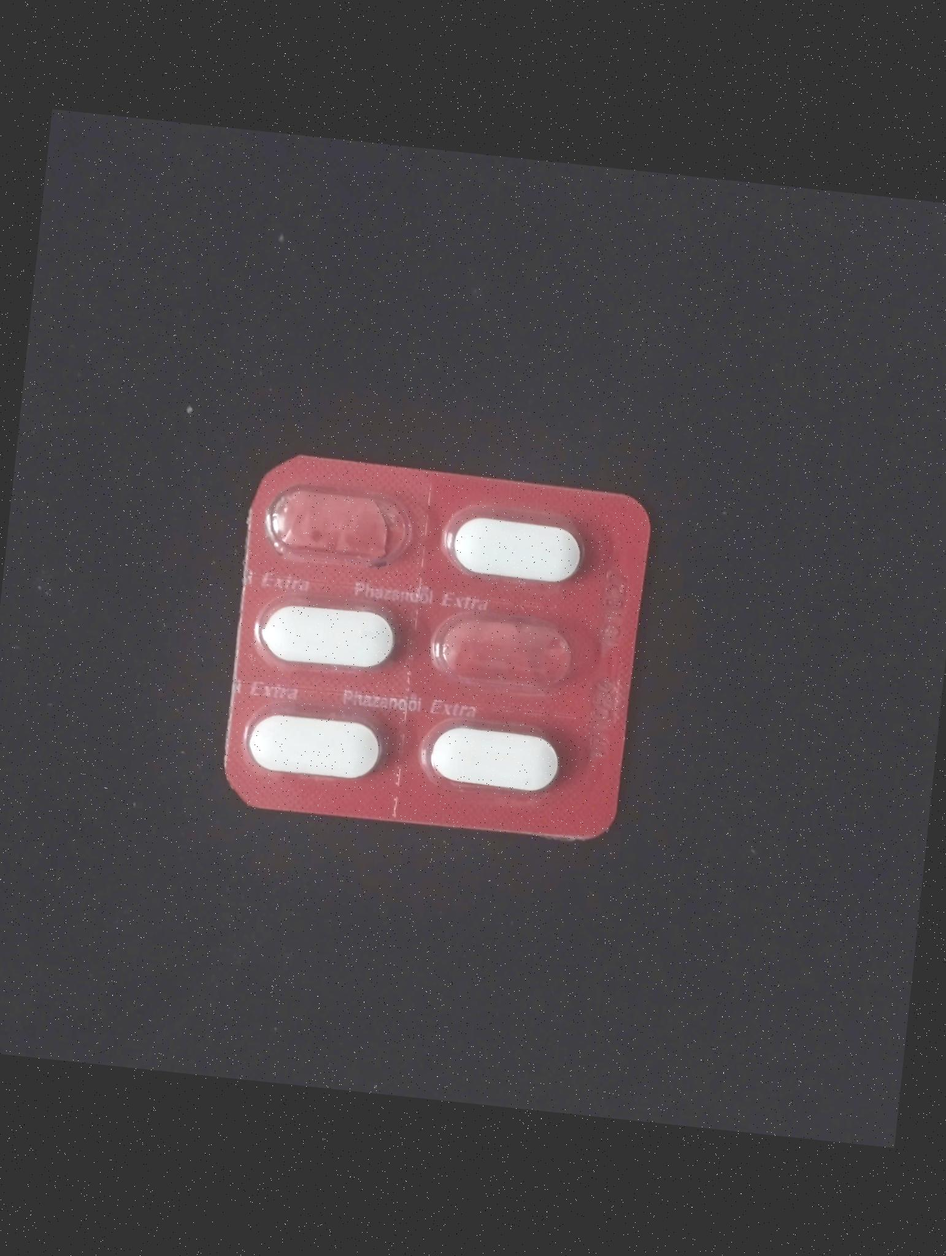Empty: (259, 477, 424, 575), (423, 604, 580, 695)
Full: (234, 700, 394, 791), (445, 492, 590, 590), (422, 711, 573, 805), (255, 588, 414, 675)
